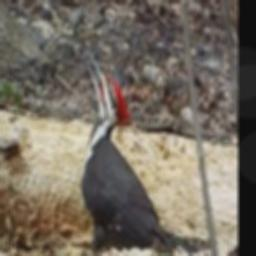Woodpecker: (80, 55, 198, 255)
